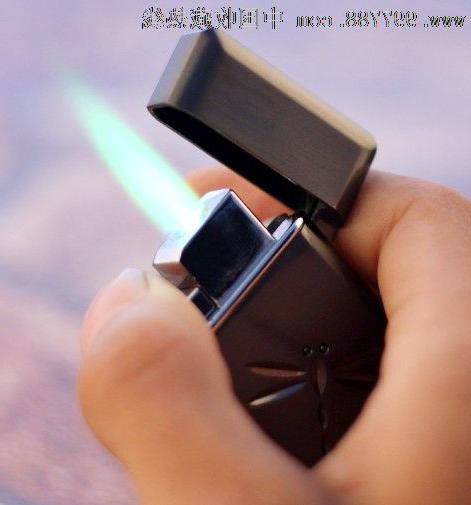fire: (70, 85, 226, 259)
